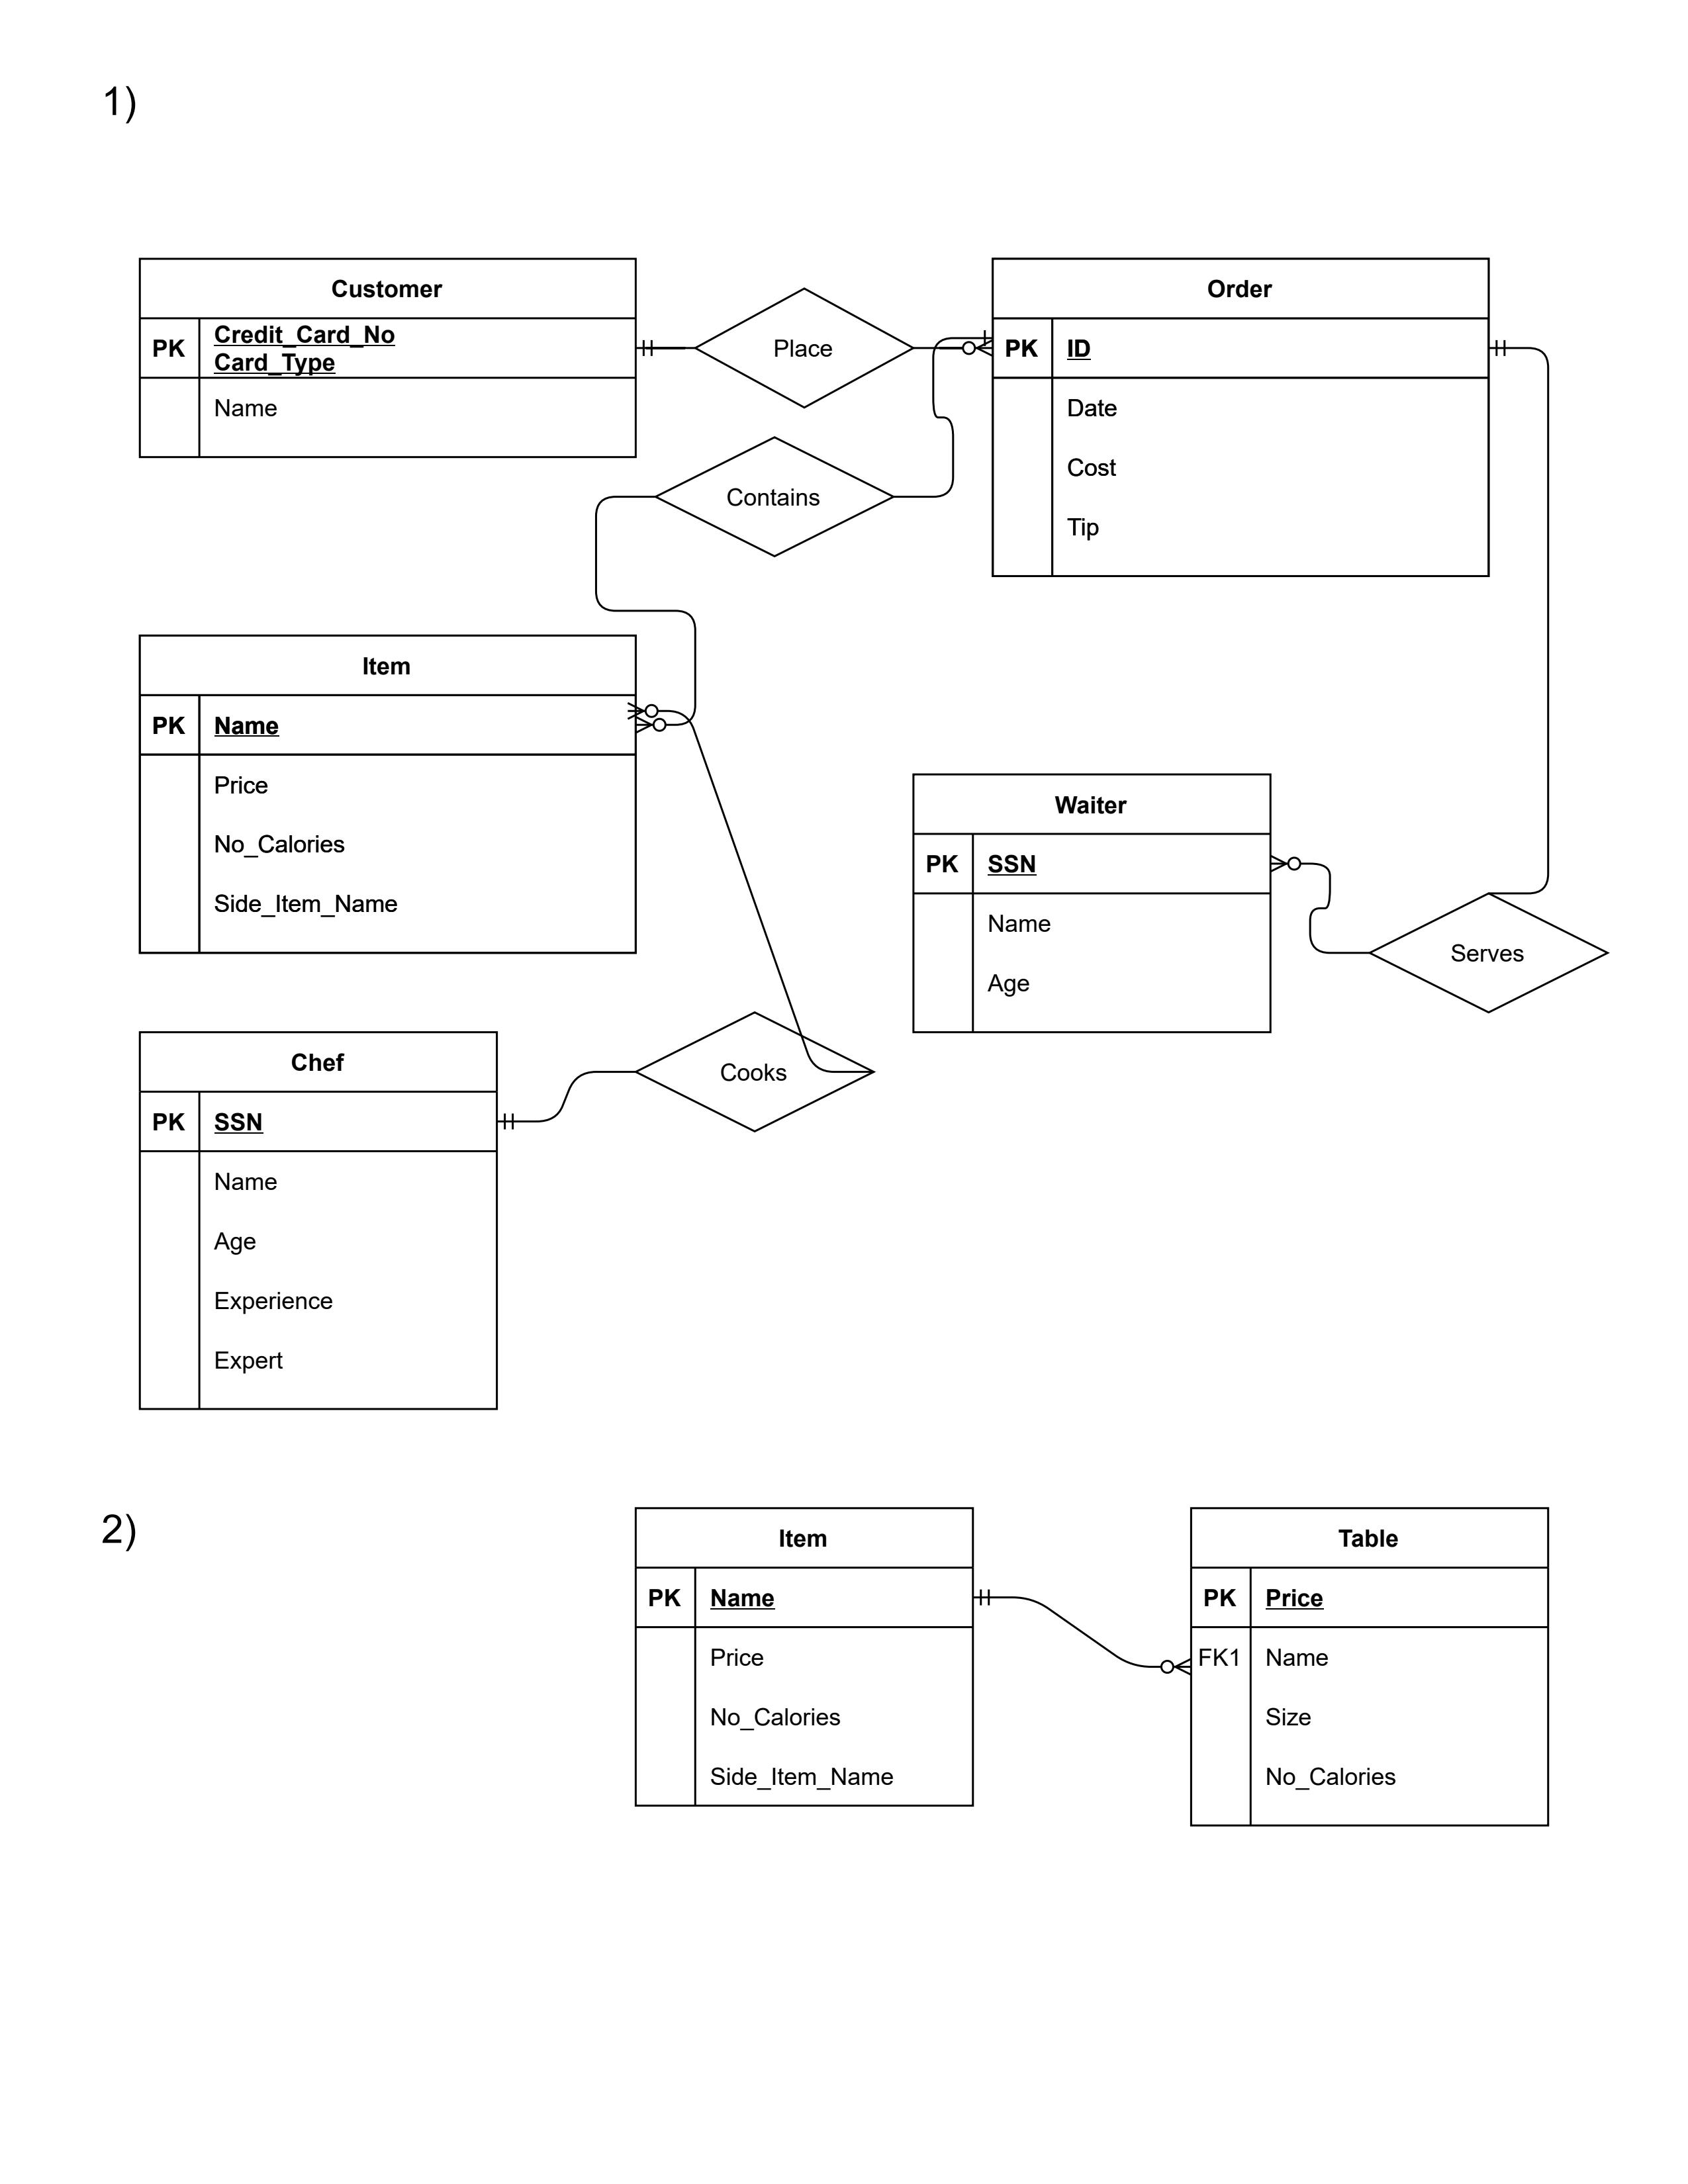Entity: (989, 253, 1491, 580), (137, 633, 638, 956), (137, 1028, 500, 1413), (137, 255, 638, 463), (910, 769, 1273, 1035)
Relationship: (635, 1009, 874, 1131), (658, 436, 892, 558), (1372, 892, 1608, 1010), (697, 287, 915, 409)
